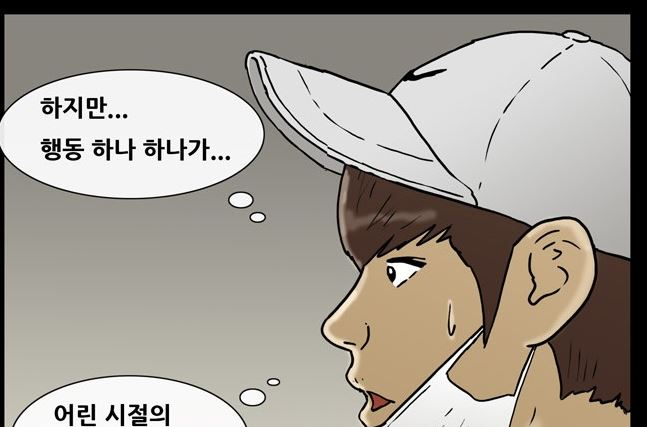hat: (242, 27, 634, 267)
